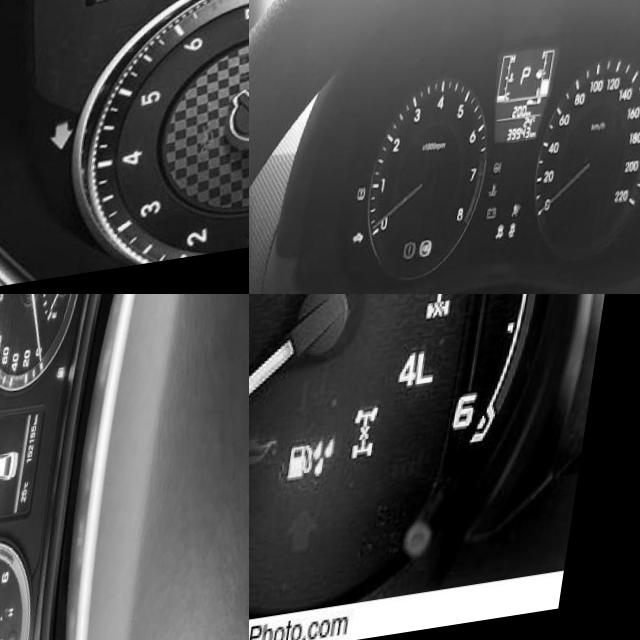Electronic Power Steering: (500, 171, 511, 186)
High Engine Coolant Temperature: (496, 193, 508, 209)
